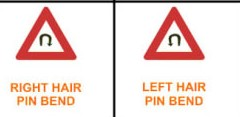Traffic signal: (143, 6, 205, 61), (16, 6, 77, 60)
